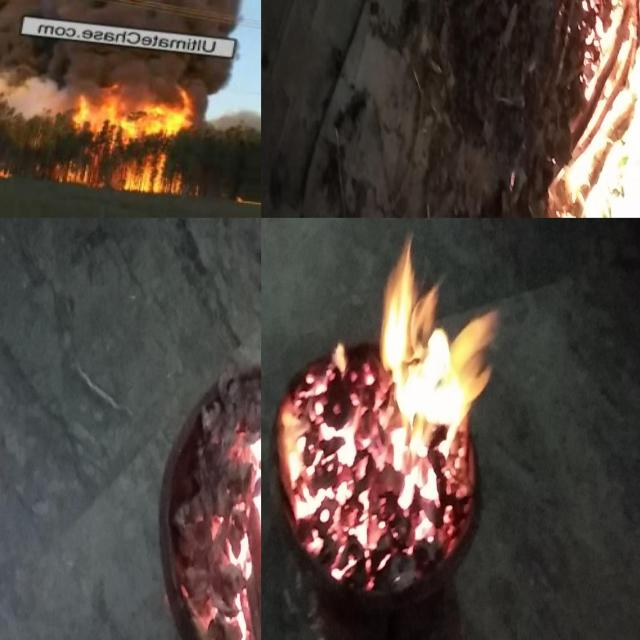fire: (367, 218, 503, 444), (278, 321, 365, 573), (366, 444, 478, 596), (583, 0, 640, 218), (216, 425, 261, 640), (68, 96, 192, 136), (124, 151, 190, 195), (62, 157, 102, 185), (0, 160, 15, 179)
smoke: (67, 62, 243, 96), (0, 54, 74, 120)
